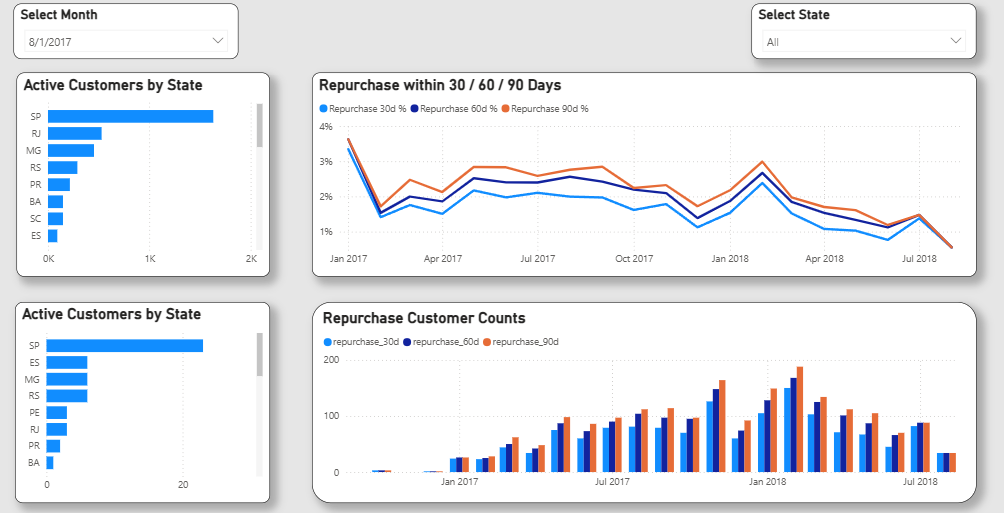

What the dashboard file says about the page in this screenshot:
{"tool":"powerbi","page":{"name":"State & Repurchase","canvas":[1280,720],"ordinal":2},"visuals":[{"type":"clusteredBarChart","title":"Active Customers by State","fields":{"Category":["monthly_new_repeat_state.customer_state"],"Y":["Sum(monthly_new_repeat_state.active_customers)"]},"box":[28.3,164.4,319.4,257],"z":0},{"type":"clusteredBarChart","title":"Active Customers by State","fields":{"Y":["Sum(monthly_new_repeat_state.repeat_customers)"],"Category":["monthly_new_repeat_state.customer_state"]},"box":[26.5,453.5,321.3,253.2],"z":1000},{"type":"lineChart","title":"Repurchase within 30 / 60 / 90 Days","fields":{"Category":["v_repurchase_30_60_90.cohort_month"],"Y":["v_repurchase_30_60_90.Repurchase 30d %","v_repurchase_30_60_90.Repurchase 60d %","v_repurchase_30_60_90.Repurchase 90d %"]},"box":[400.6,164.4,837.2,257],"z":2000},{"type":"clusteredColumnChart","title":"Repurchase Customer Counts","fields":{"Category":["v_repurchase_30_60_90.cohort_month"],"Y":["Sum(v_repurchase_30_60_90.repurchase_30d_customers)","Sum(v_repurchase_30_60_90.repurchase_60d_customers)","Sum(v_repurchase_30_60_90.repurchase_90d_customers)"]},"box":[400.6,453.5,837.2,253.2],"z":3000},{"type":"slicer","title":"Select Month","fields":{"Values":["monthly_new_repeat_state.order_month"]},"box":[24.6,77.5,283.5,69.9],"z":4000},{"type":"slicer","title":"Select State","fields":{"Values":["v_repurchase_30_60_90.customer_state"]},"box":[954.3,77.5,283.5,69.9],"z":5000},{"type":"textbox","box":[0,0,1279.4,62.4],"z":6000}]}

Visuals, with their boxes on the page's 1280x720 design canvas (x1, y1, x2, y2). These are canvas units, not pixel positions in the 1004x513 screenshot, which may show the page scaled, cropped or inside an application window:
"Active Customers by State" clusteredBarChart: {"x1": 28, "y1": 164, "x2": 348, "y2": 421}
"Active Customers by State" clusteredBarChart: {"x1": 26, "y1": 454, "x2": 348, "y2": 707}
"Repurchase within 30 / 60 / 90 Days" lineChart: {"x1": 401, "y1": 164, "x2": 1238, "y2": 421}
"Repurchase Customer Counts" clusteredColumnChart: {"x1": 401, "y1": 454, "x2": 1238, "y2": 707}
"Select Month" slicer: {"x1": 25, "y1": 78, "x2": 308, "y2": 147}
"Select State" slicer: {"x1": 954, "y1": 78, "x2": 1238, "y2": 147}
textbox: {"x1": 0, "y1": 0, "x2": 1279, "y2": 62}
